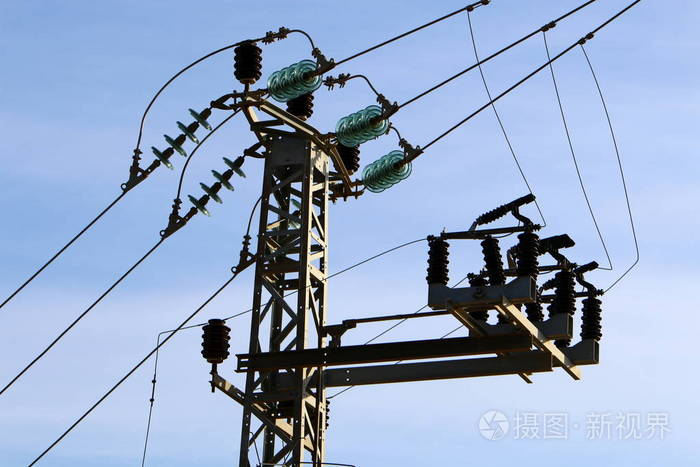insulator: (153, 107, 213, 170), (190, 156, 246, 217), (269, 58, 322, 102), (336, 105, 390, 145), (365, 151, 413, 192)
